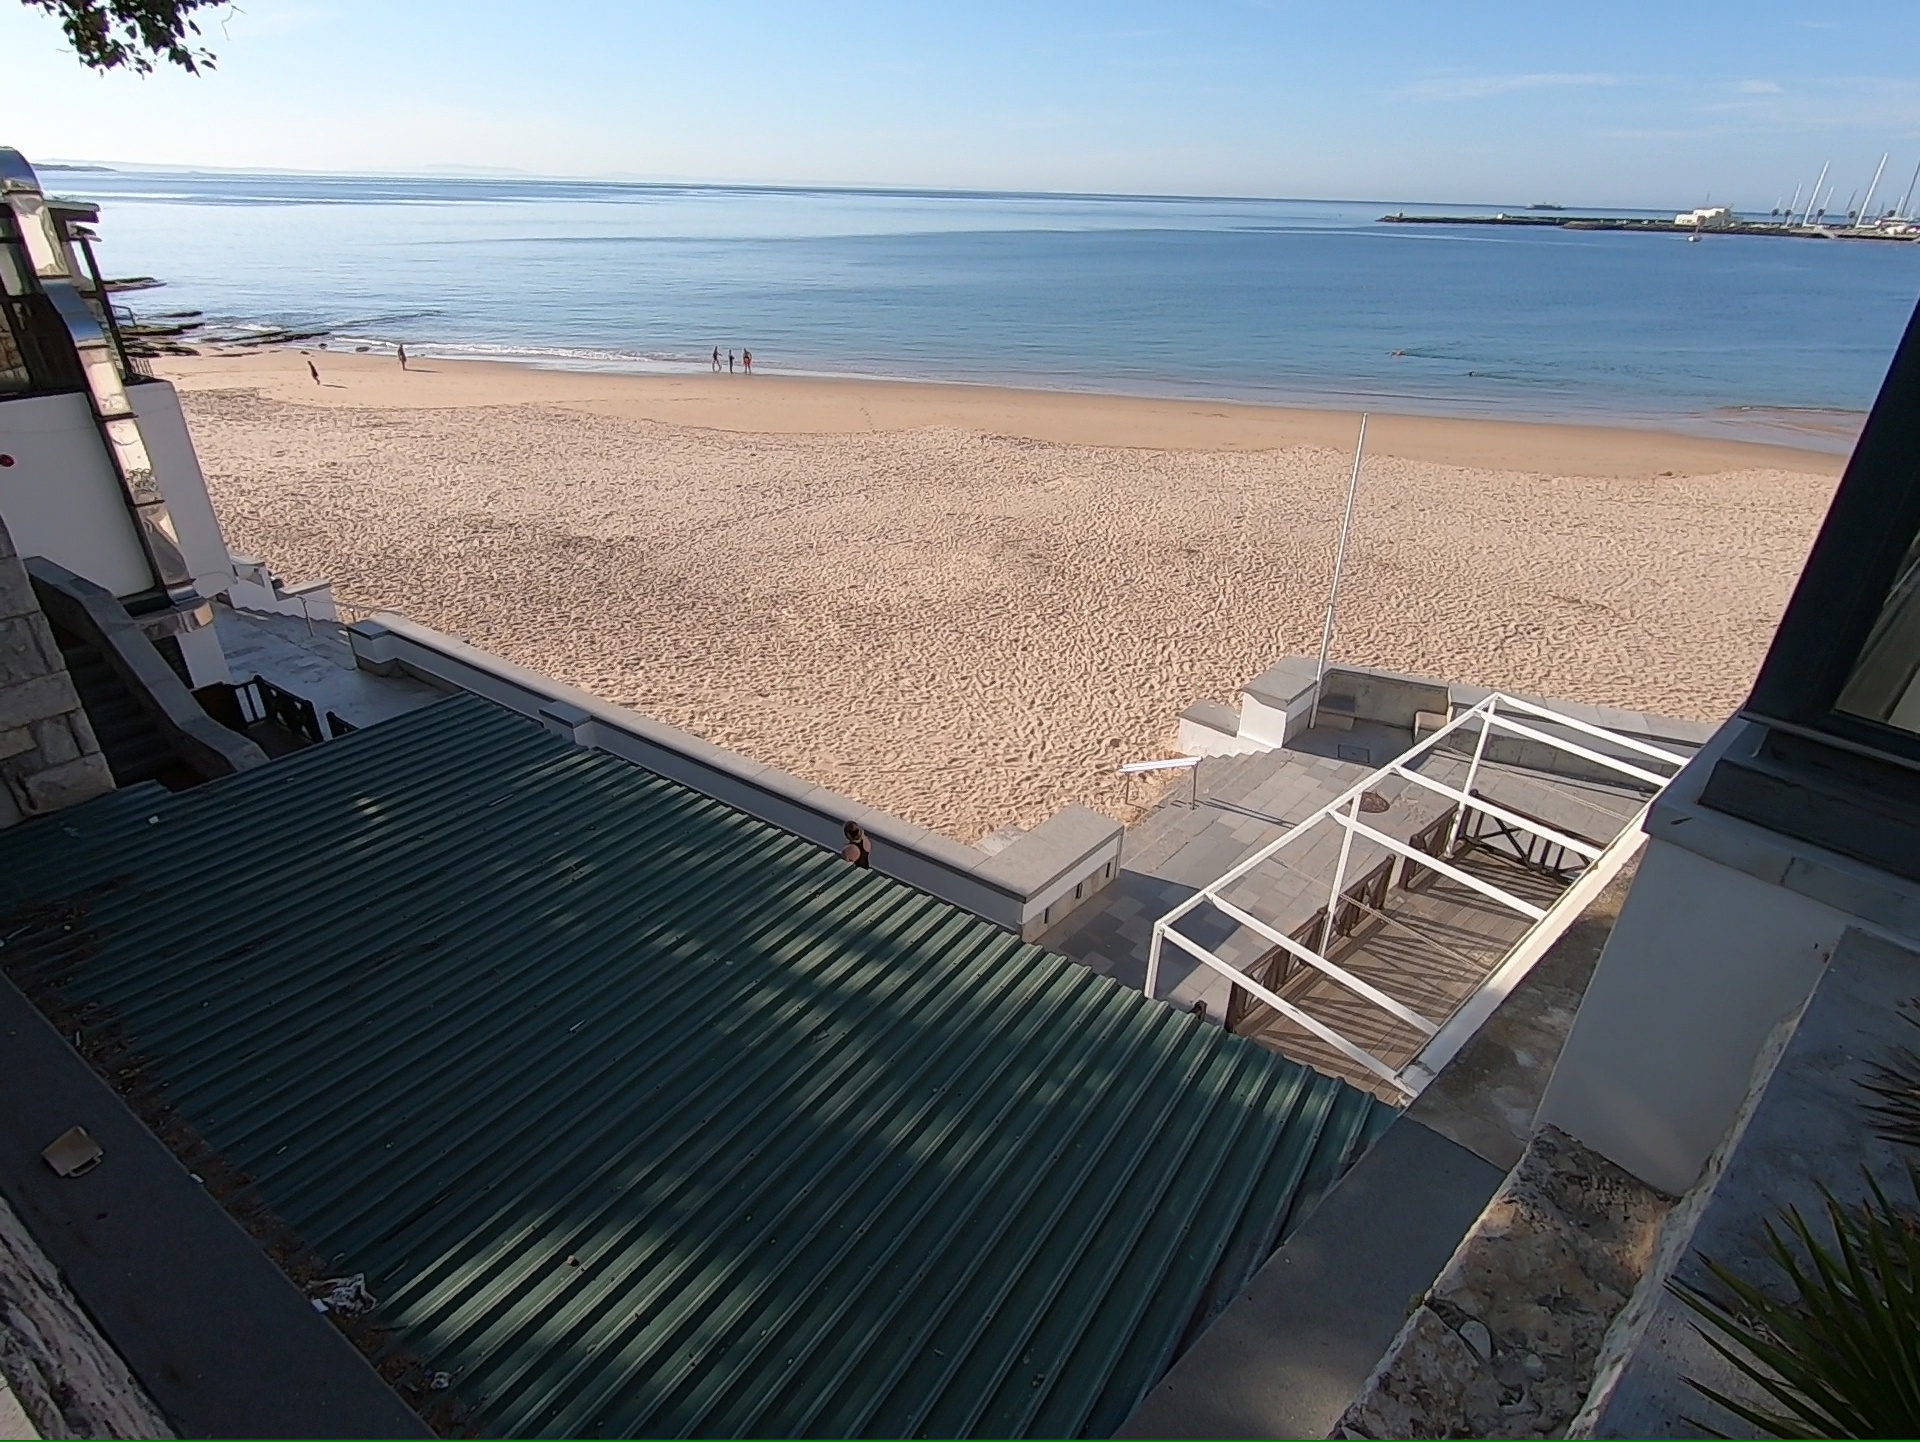person: (394, 344, 409, 372), (709, 344, 722, 372), (305, 360, 320, 386), (742, 345, 752, 374), (727, 346, 735, 376)
